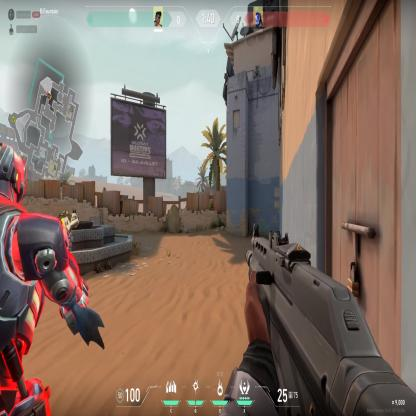enemy: (0, 138, 78, 380)
